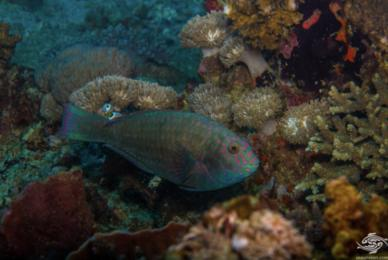Scaridae -Parrotfishes-: (59, 96, 262, 196)
